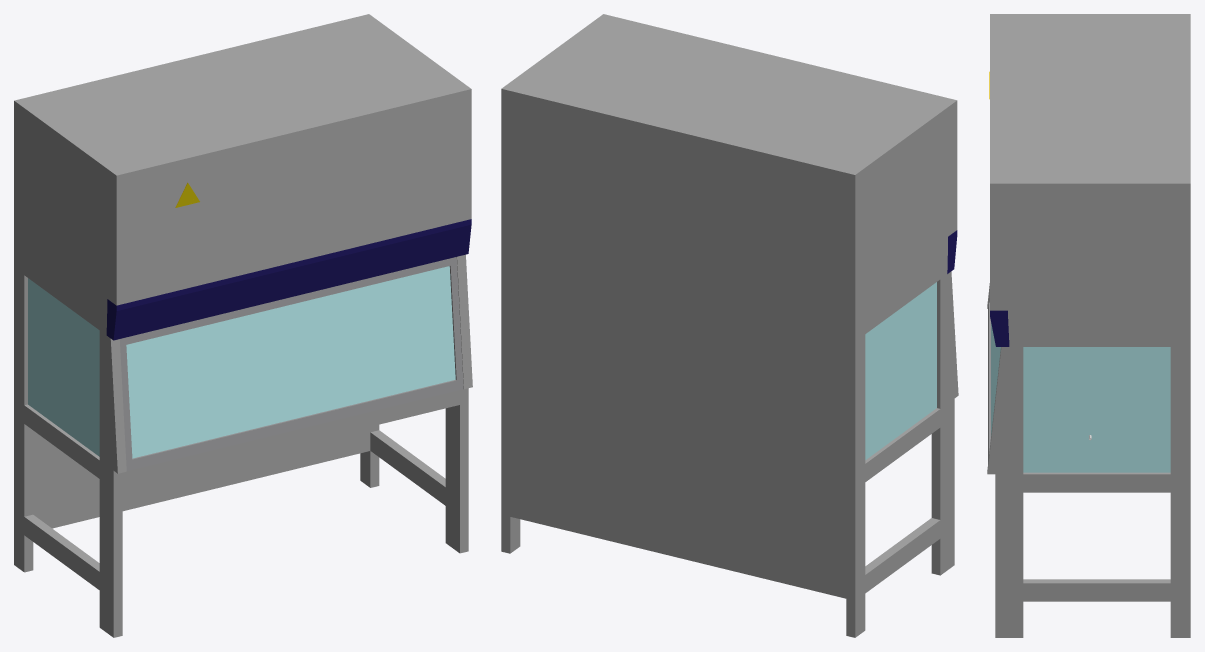
Rendered from BSCClass1.fbx.
3 renders of one model, left to right at view 1: azimuth 30°, elevation 25°; view 2: azimuth 150°, elevation 25°; view 3: azimuth 270°, elevation 25°, orthographic. The views are drawn at different scales.
Parts seen in each view (by area): view 1: BSC1, glassFront, glassLeft.001, frameFront.001; view 2: BSC1, glassLeft.001; view 3: BSC1, glassRight.001, glassFront, frameFront.001.
Part boxes in pixels (box(x1,y1,x2,y2)): BSC1: box(14, 14, 472, 637); glassFront: box(126, 266, 455, 458); glassLeft.001: box(28, 278, 99, 456); frameFront.001: box(119, 257, 463, 471); BSC1: box(501, 14, 958, 637); glassLeft.001: box(865, 282, 936, 459); BSC1: box(987, 14, 1190, 637); glassRight.001: box(1023, 347, 1170, 472); glassFront: box(991, 322, 1000, 435); frameFront.001: box(988, 292, 990, 463).
Size of the model in its own units: 2015 by 2500 by 1013.
